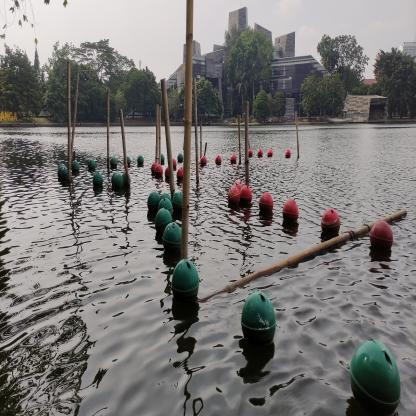green_buoy: (349, 337, 403, 415), (240, 288, 277, 349), (171, 258, 199, 303), (162, 222, 182, 255), (155, 207, 173, 235), (158, 198, 173, 220), (146, 191, 160, 213), (172, 192, 184, 216), (113, 174, 124, 190), (92, 172, 103, 188), (71, 160, 81, 174), (122, 172, 131, 187), (160, 192, 172, 202), (111, 171, 119, 185), (88, 158, 96, 171), (61, 167, 68, 181), (110, 156, 117, 170), (57, 166, 65, 178), (137, 154, 144, 166), (177, 152, 183, 162), (127, 156, 131, 168), (160, 154, 164, 165)
red_buoy: (369, 219, 394, 254), (320, 207, 340, 236), (282, 197, 299, 226), (258, 191, 274, 215), (240, 184, 252, 206), (228, 187, 240, 205), (233, 179, 244, 189), (232, 184, 242, 194), (214, 155, 222, 165), (230, 153, 237, 164), (200, 156, 207, 166), (285, 149, 291, 159), (267, 148, 273, 158), (257, 149, 263, 158), (248, 148, 253, 158)
